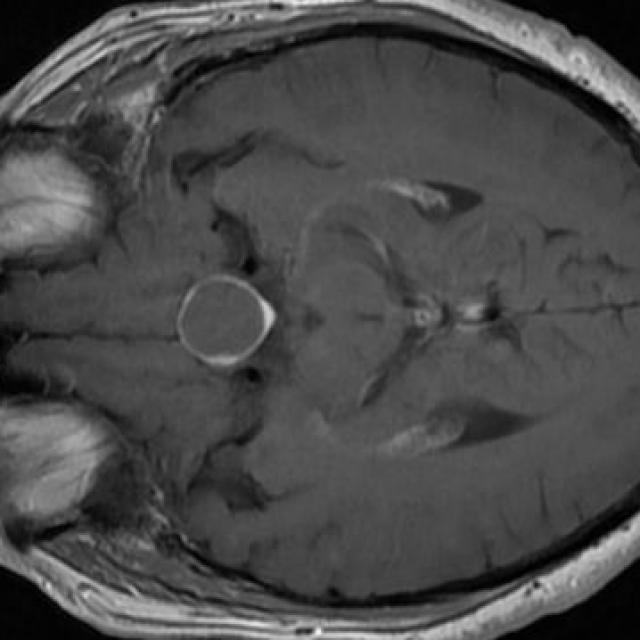pituitary: (175, 275, 275, 367)
